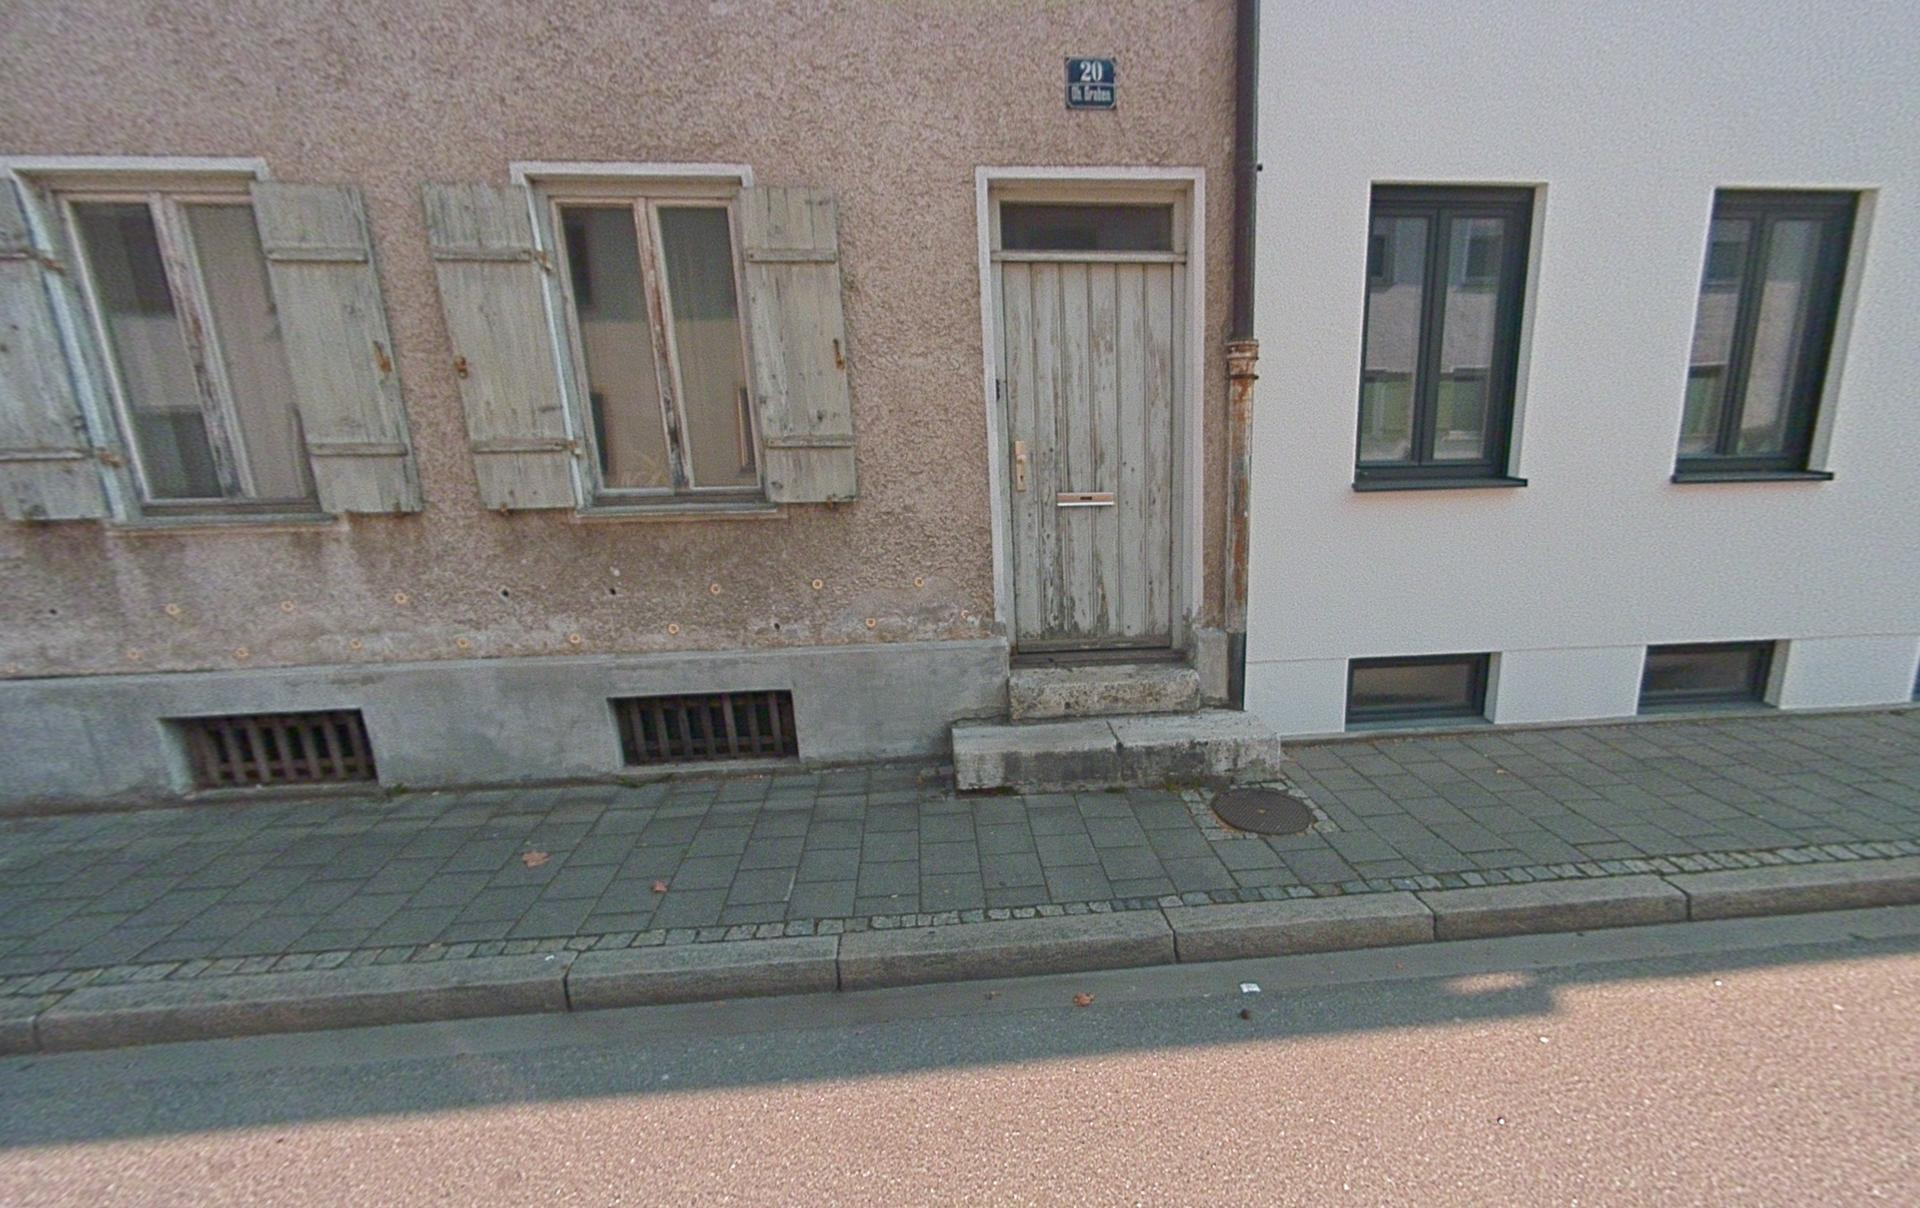traffic sign: (1064, 56, 1117, 110)
